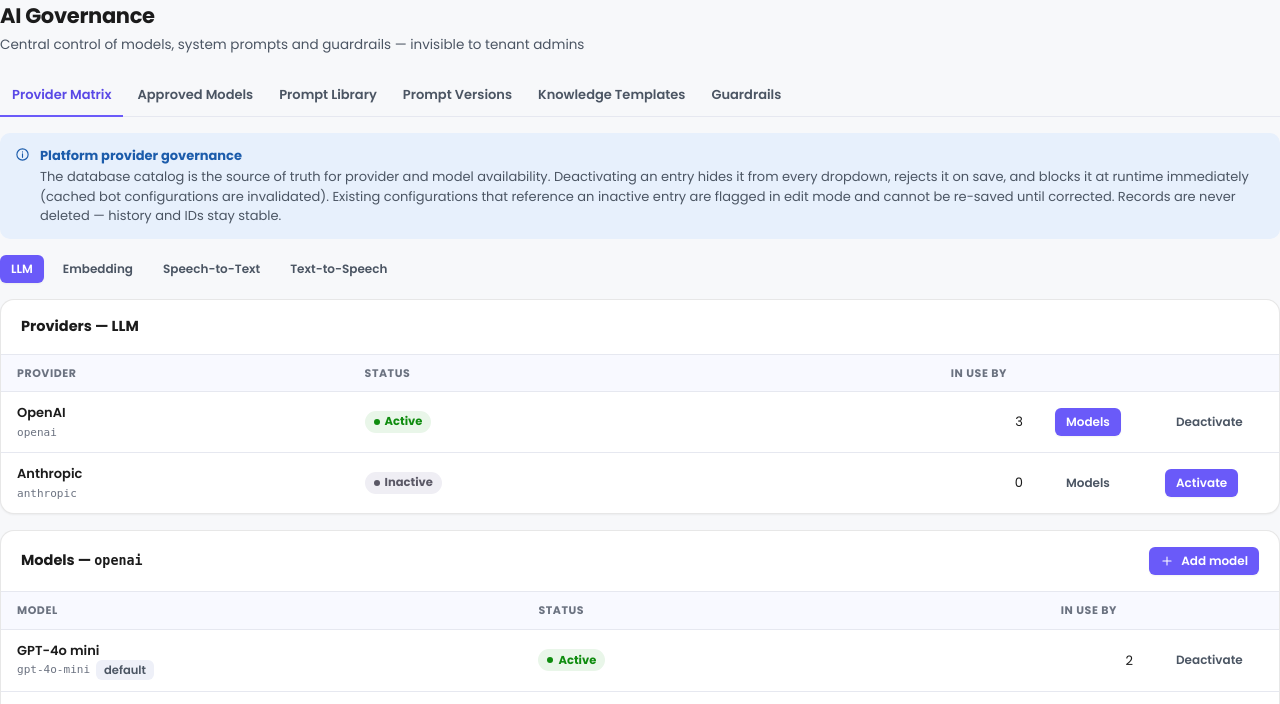
Test case: AI Governance — approved models › keeps deprecated models below approved and testing models
Expected: the text "GPT-4o mini" is shown, [17,641,99,660]
Click the tab "Approved Models" at (195, 96), box [126,75,265,117]
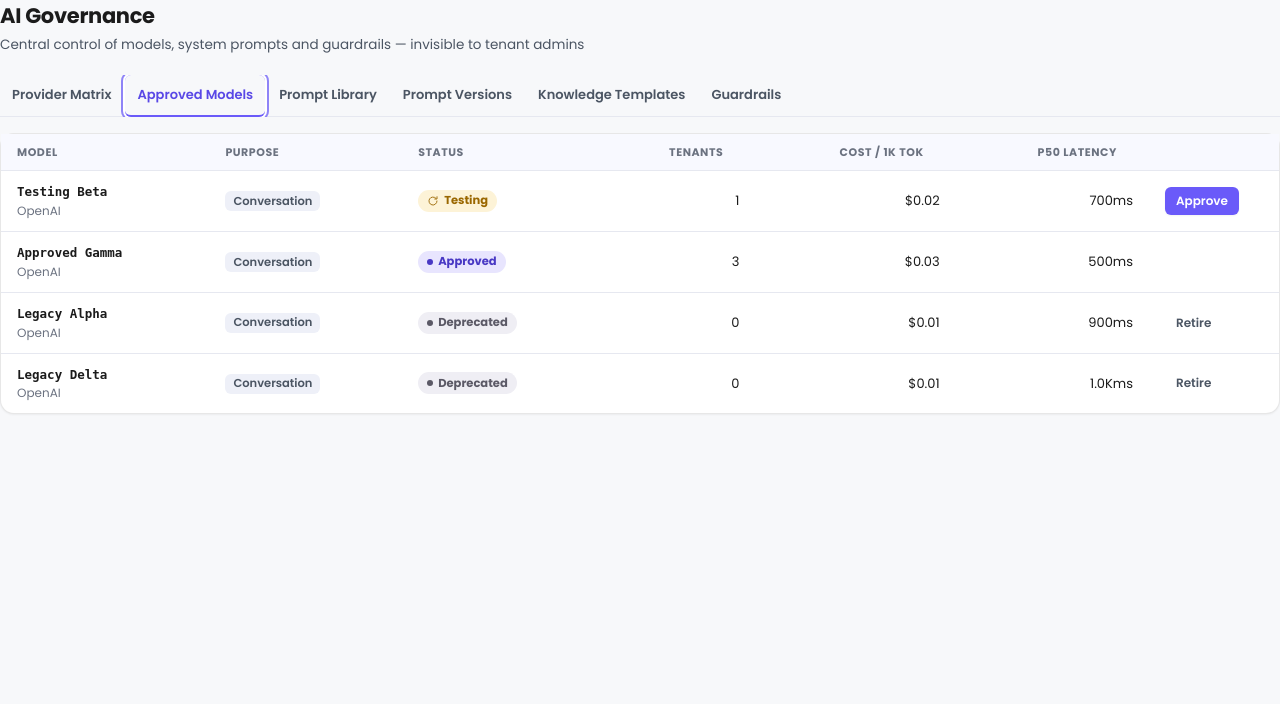
Expected: the text "Approved Gamma" is shown, [17,245,122,260]
